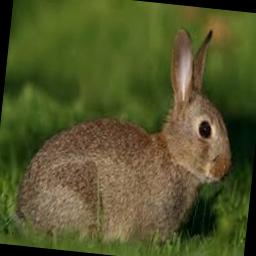rabbit: (14, 27, 231, 242)
